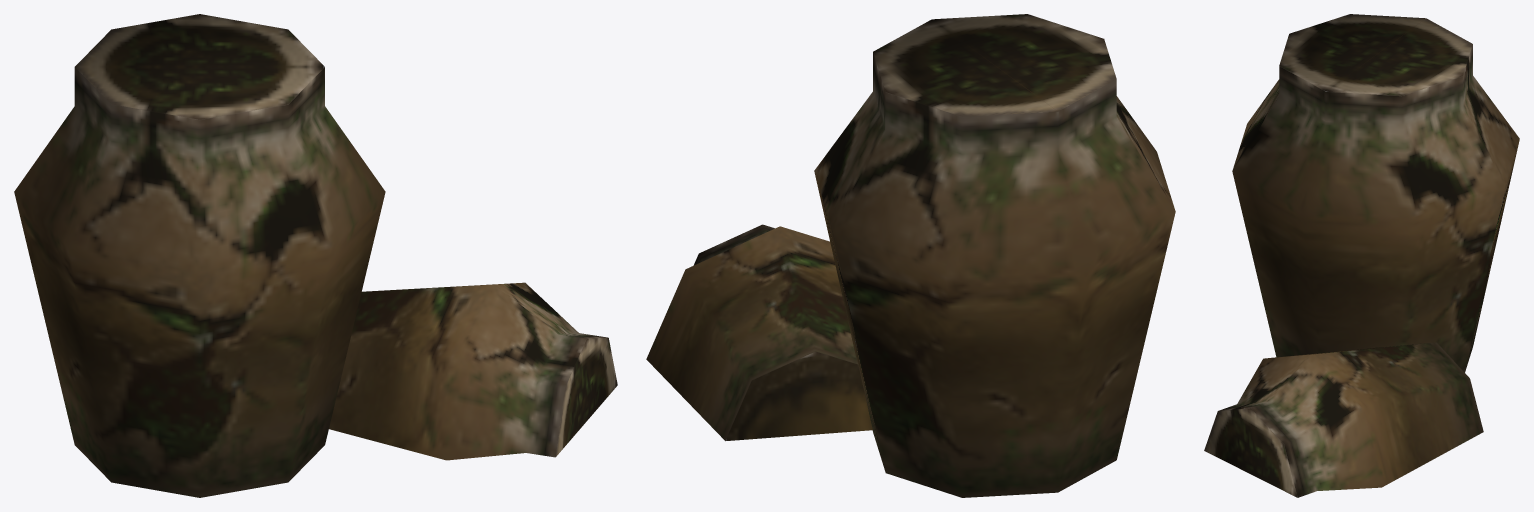
File: Hangzhou_wj_048.FBX
3 renders of one model, left to right at view 1: azimuth 30°, elevation 25°; view 2: azimuth 150°, elevation 25°; view 3: azimuth 270°, elevation 25°, orthographic. The views are drawn at different scales.
Parts seen in each view (by area): view 1: Cylinder03; view 2: Cylinder03; view 3: Cylinder03.
Part boxes in pixels (left/top/right/bottom): Cylinder03: left=14, top=14, right=617, bottom=497; Cylinder03: left=646, top=14, right=1175, bottom=497; Cylinder03: left=1204, top=14, right=1519, bottom=497.
Bounding box in the file's own units: 61.44 × 42.34 × 39.98.
1 material, 1 textured.
